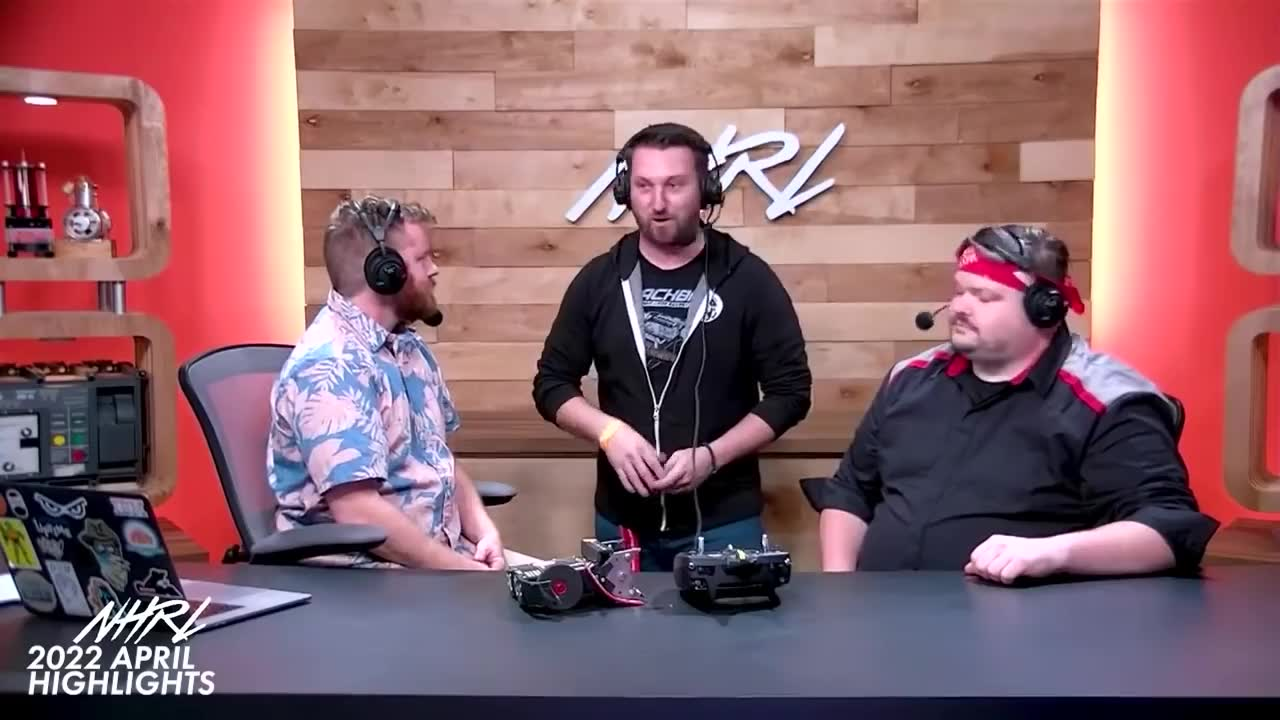combatbot: (505, 527, 643, 625)
